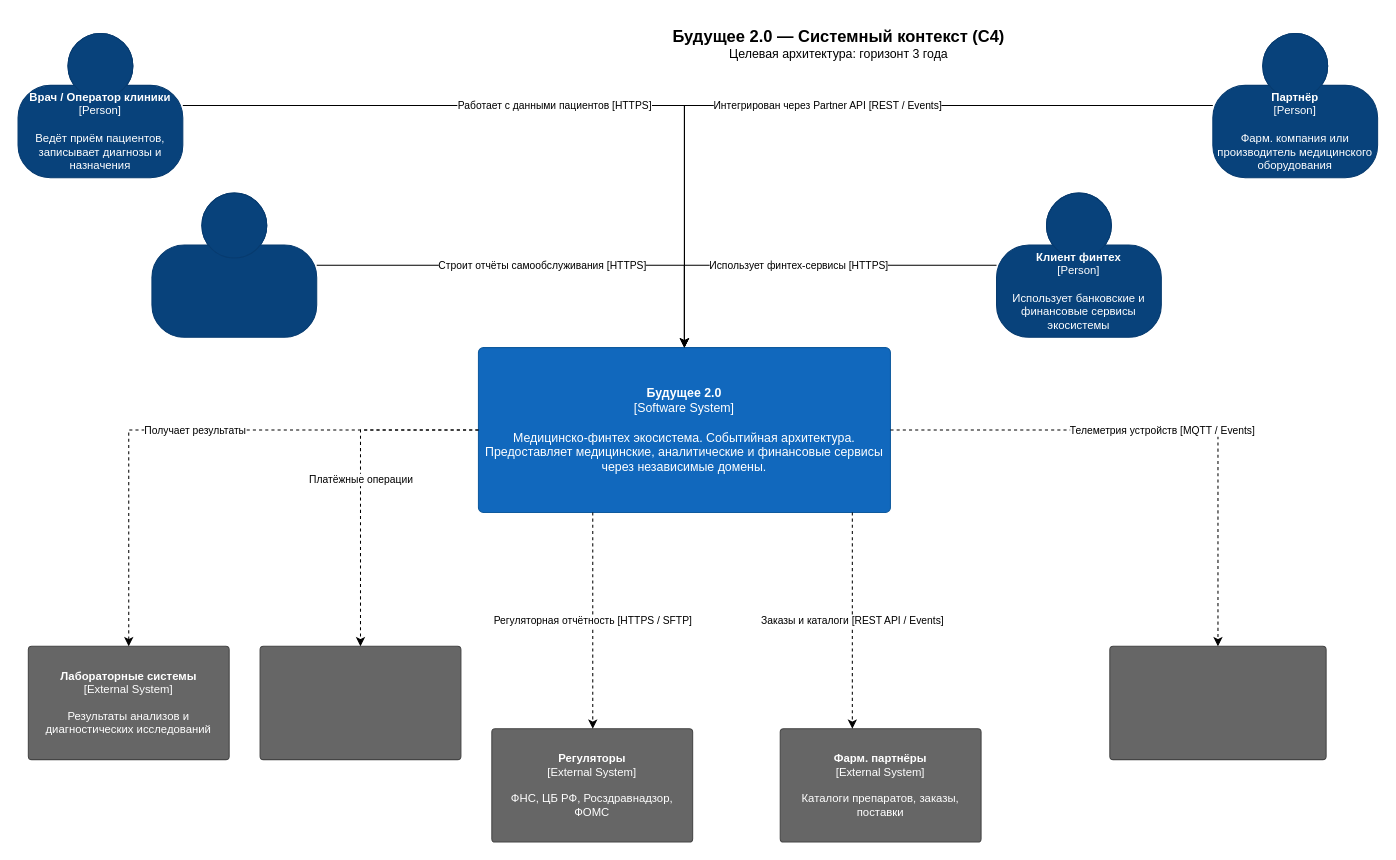
This 1396x860 diagram has some shape labels left out. Here are the shapes that lost their labels. From the top down, the centre of each, then its label:
At (x=234, y=264): "Бизнес-аналитик [Person] Строит отчёты и дашборды через портал самообслуживания".
At (x=360, y=702): "Банковские сети [External System] SWIFT, ЦБ РФ, МИР, платёжные системы".
At (x=1217, y=702): "Произв. медоборудования [External System] Телеметрия устройств, сервисные данные".
